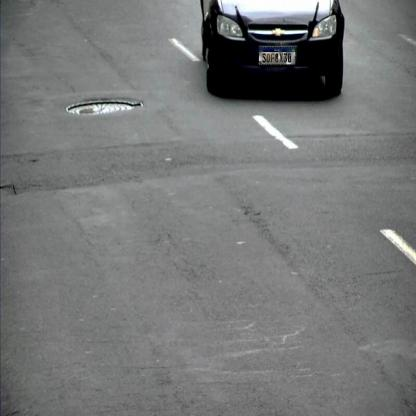PlacaM: (258, 47, 296, 65)
